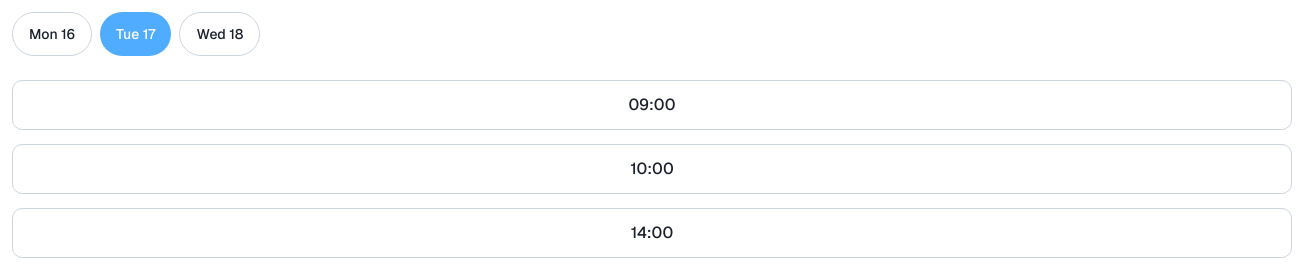
it: TimeSlotPicker › shows 'No available times' message for empty day
This screenshot has width=1304, height=275.
Click the tab "Mon 16". click: (52, 34)
box: [12,12,92,56]
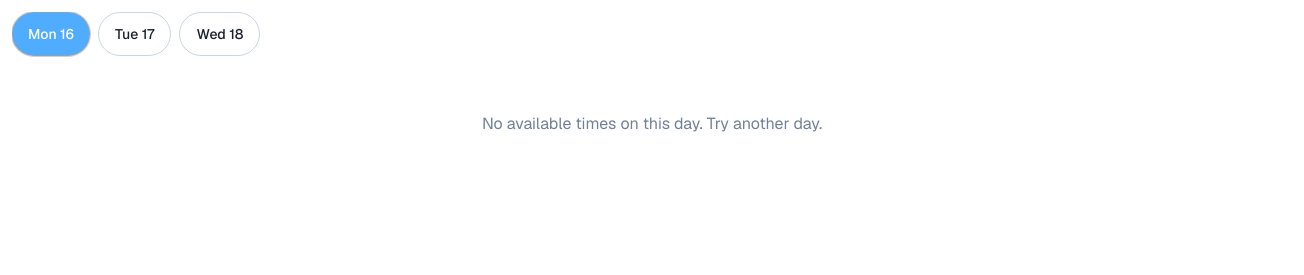
Expected: the text "No available times on this day. Try another day." is shown, [482,113,822,134]
